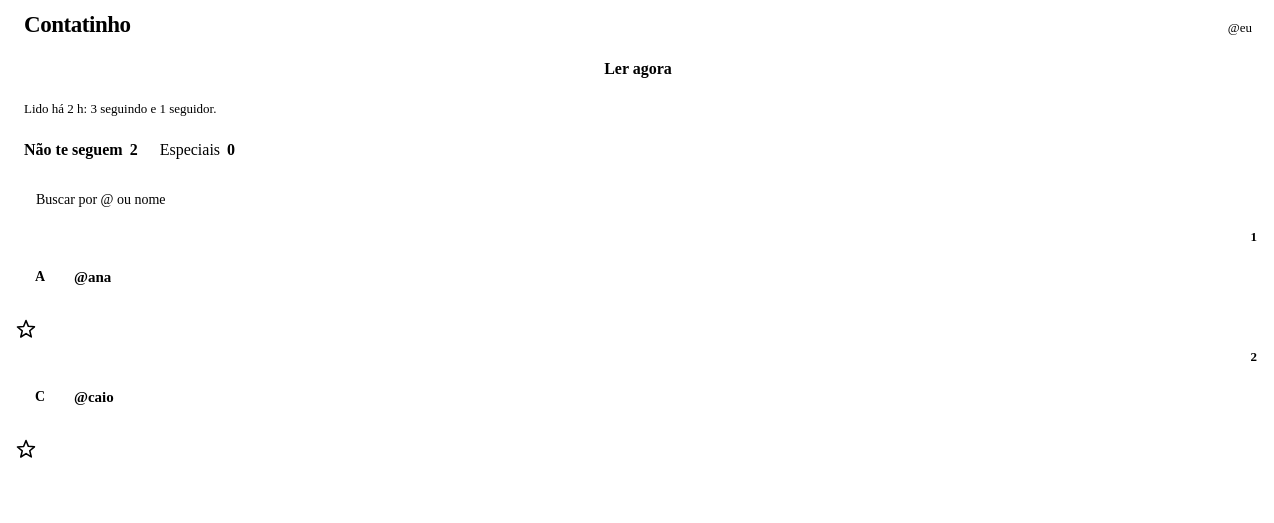
Scenario: App › erro ao fim da leitura aparece no aviso
Click the button "Ler agora": [638, 69] box [24,49,1252,89]
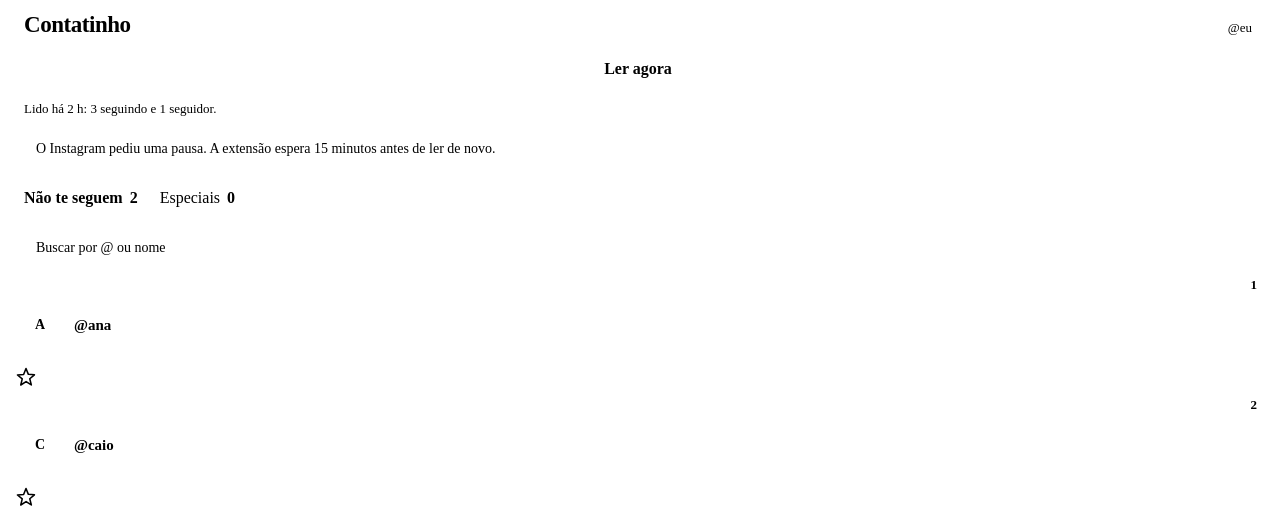
expect the message shows "O Instagram pediu uma pausa": met, box [36,141,496,156]
